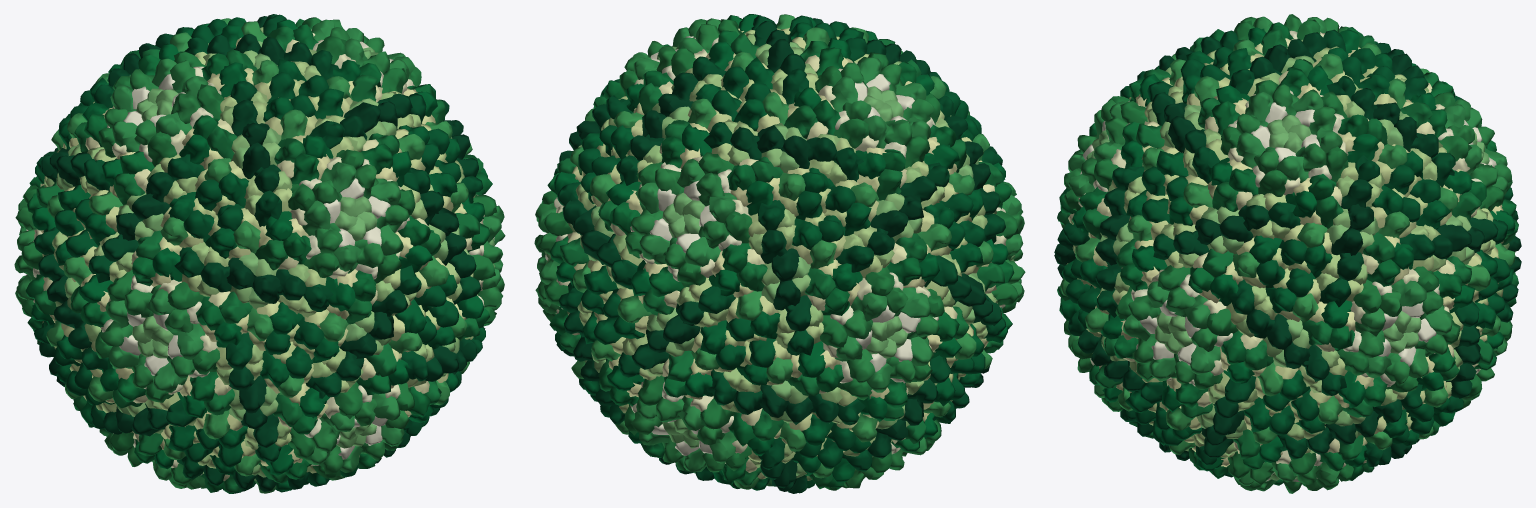
3 renders of one model, left to right at view 1: azimuth 30°, elevation 25°; view 2: azimuth 150°, elevation 25°; view 3: azimuth 270°, elevation 25°, orthographic. The views are drawn at different scales.
Size of the model in its own units: 849 by 849 by 849.
